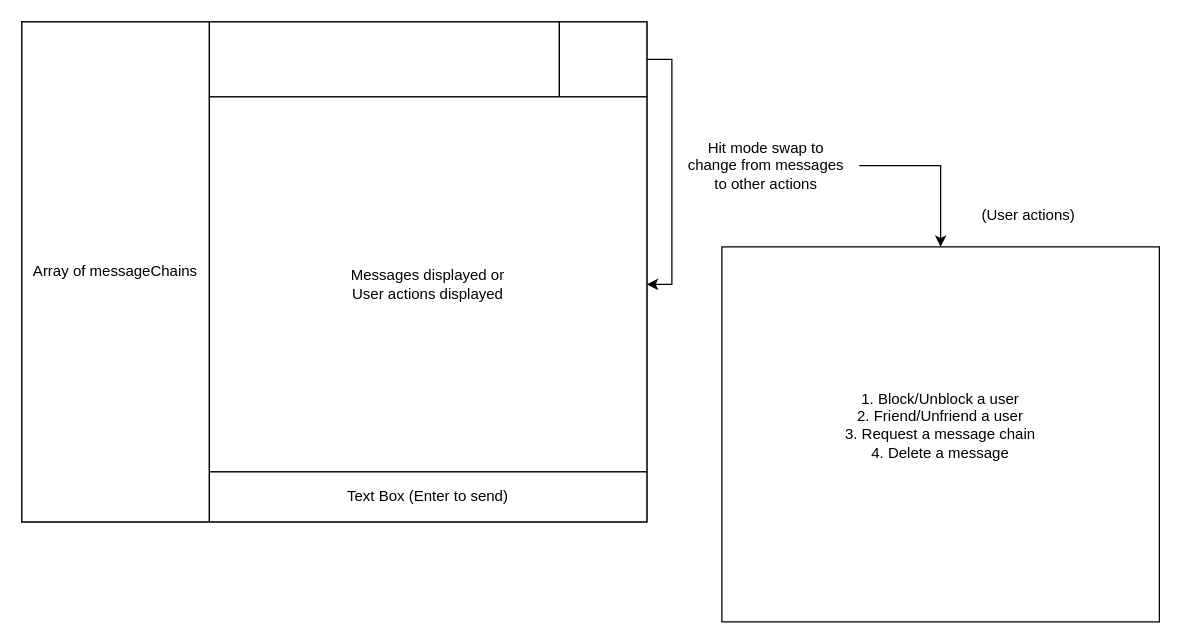
This 1181x644 diagram has some shape labels left out. Here are the shapes that lost their labels. From the top down, the centre of each, then its label:
the point at 383,59: MessageChain title made from LeftUser, RightUser
the point at 602,59: Mode Swap
